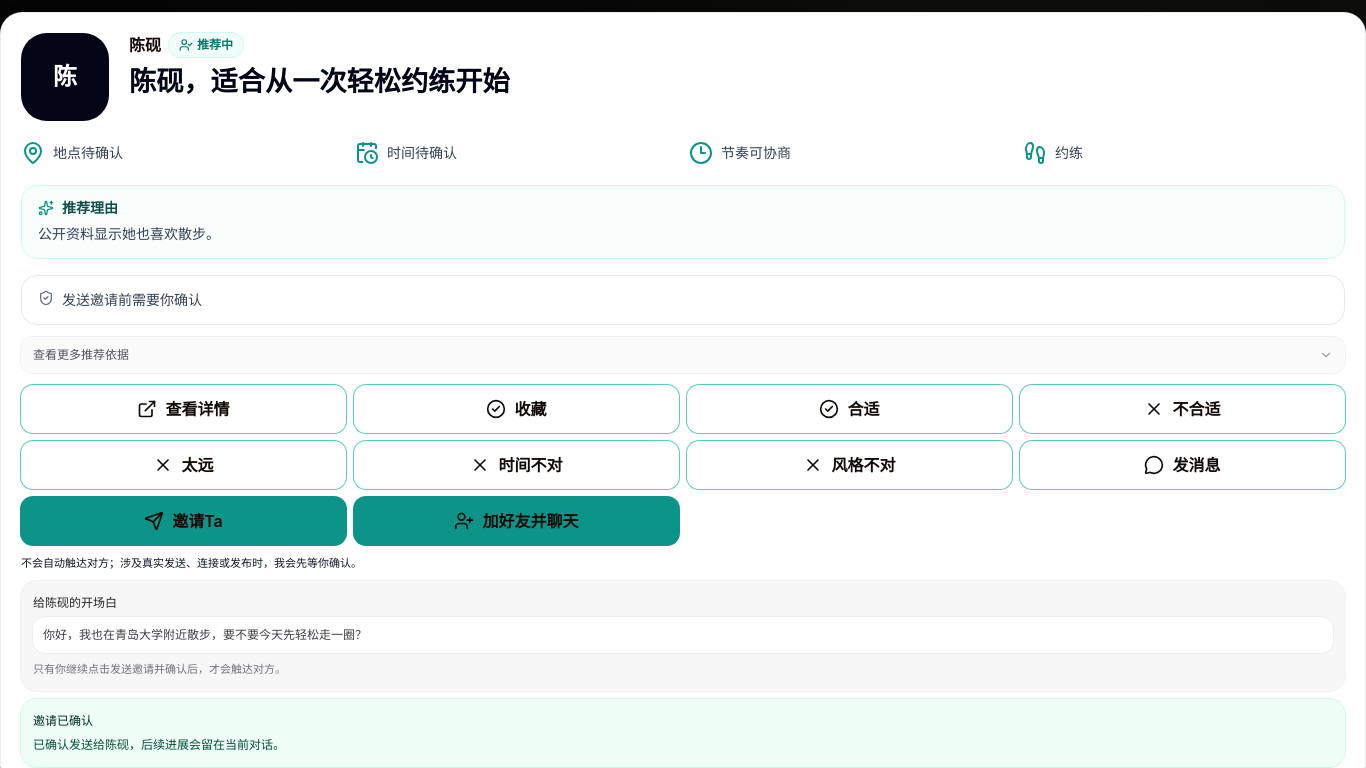
it: assistant-ui tool fallback rendering › collapses matching approval cards into the candidate action card instead of rendering duplicates
Step 1. Click the button with aria-label "发送邀请" → (184, 521), box [21,497,346,545]
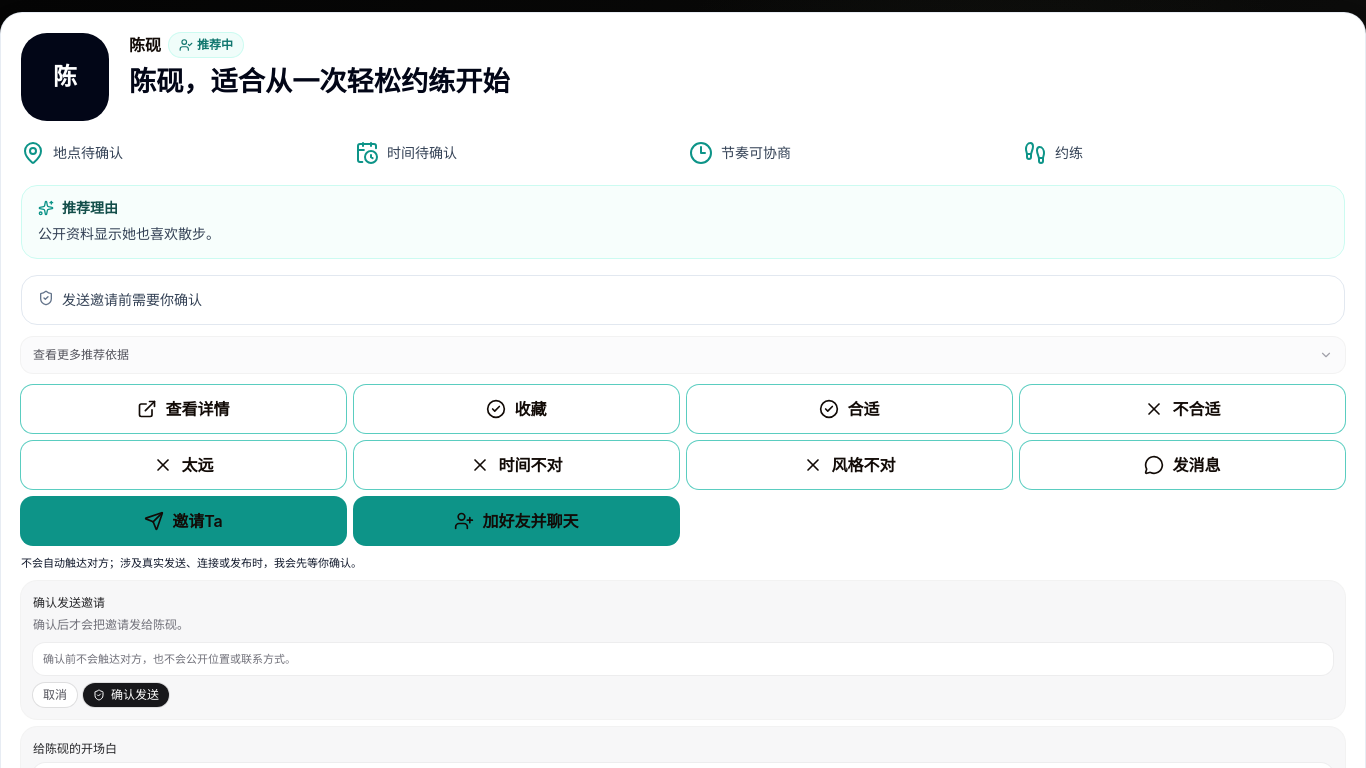
Expected: the element with test id "assistant-ui-inline-approval-panel" shows "确认发送邀请", [33,595,105,610]
